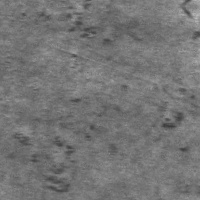rolled-in_scale: (8, 93, 111, 194), (28, 0, 145, 45), (151, 81, 200, 162)
